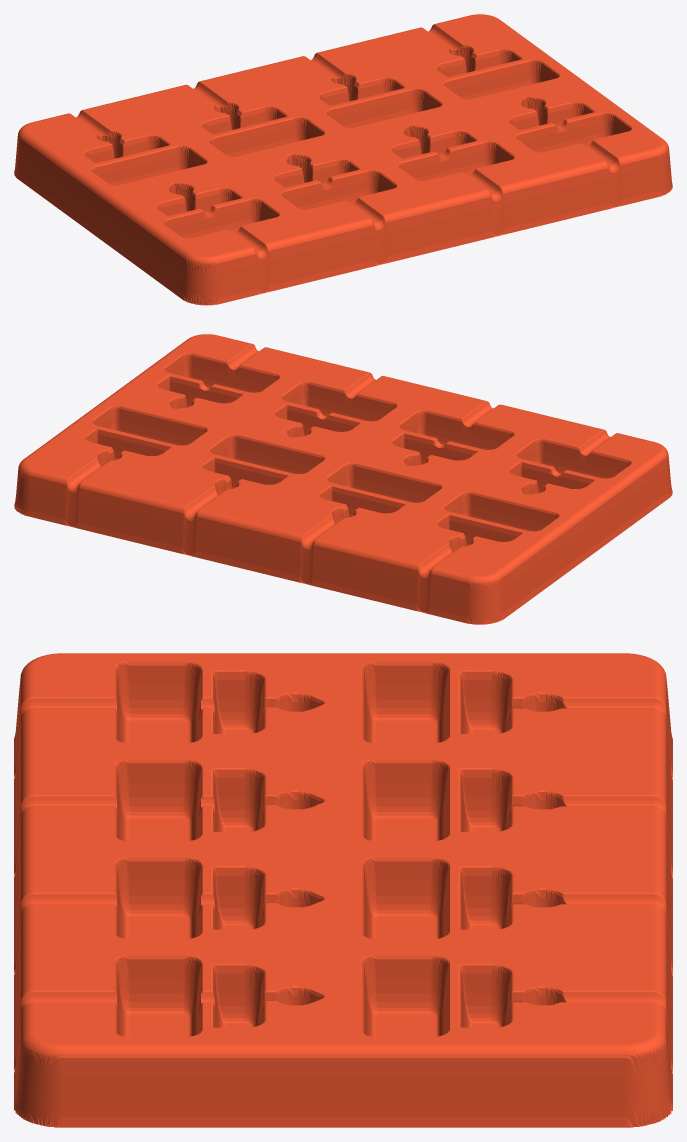
Rendered from mold.glb.
3 renders of one model, top to bottom at view 1: azimuth 30°, elevation 25°; view 2: azimuth 150°, elevation 25°; view 3: azimuth 270°, elevation 25°, orthographic. The views are drawn at different scales.
Visible parts, largest first — view 1: geometry_0; view 2: geometry_0; view 3: geometry_0.
Boxes of the visible parts, left/top/right/bottom form: geometry_0: left=14, top=14, right=672, bottom=305; geometry_0: left=14, top=334, right=672, bottom=624; geometry_0: left=14, top=653, right=672, bottom=1127.
Bounding box in the file's own units: 0.1792 × 0.0155 × 0.1229.
